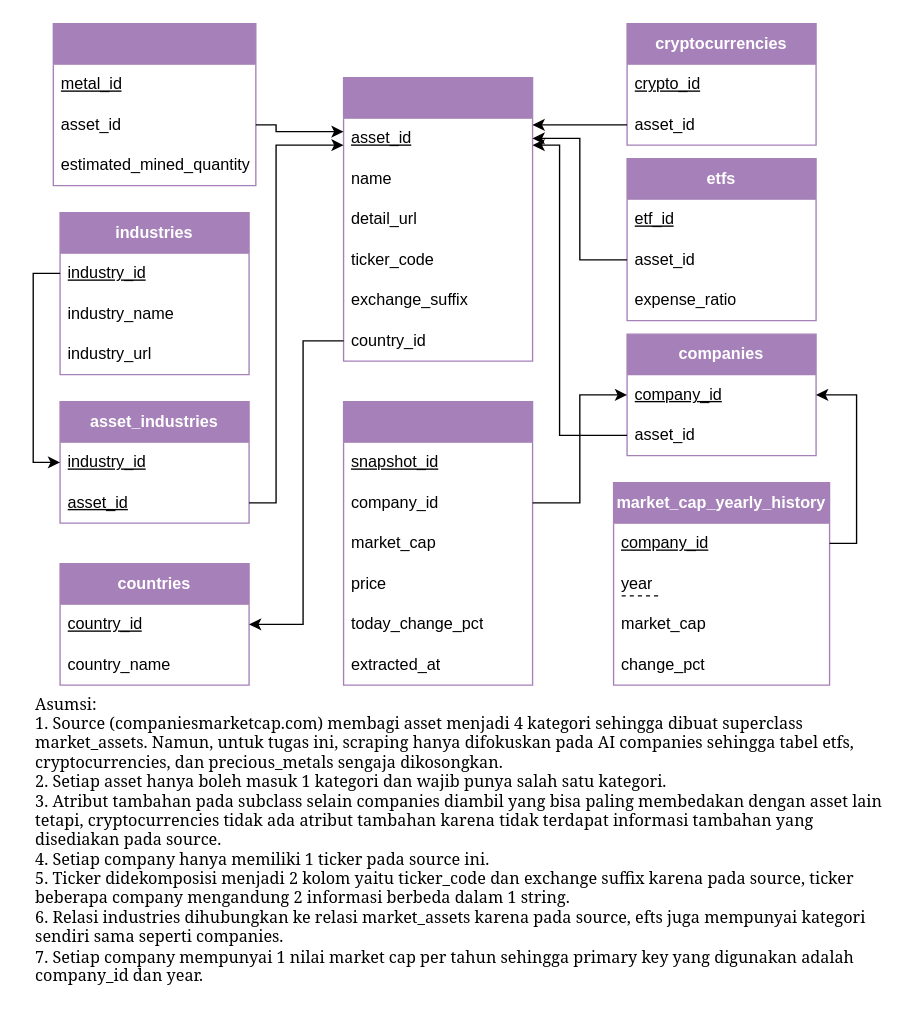
The diagram is 921 pixels wide and 1010 high, and some of its shapes have lost their labels. Each missing label, with the box of its shape:
market_assets: (342, 76, 533, 361)
market_cap_snapshots: (342, 400, 533, 685)
precious_metals: (52, 22, 256, 186)
